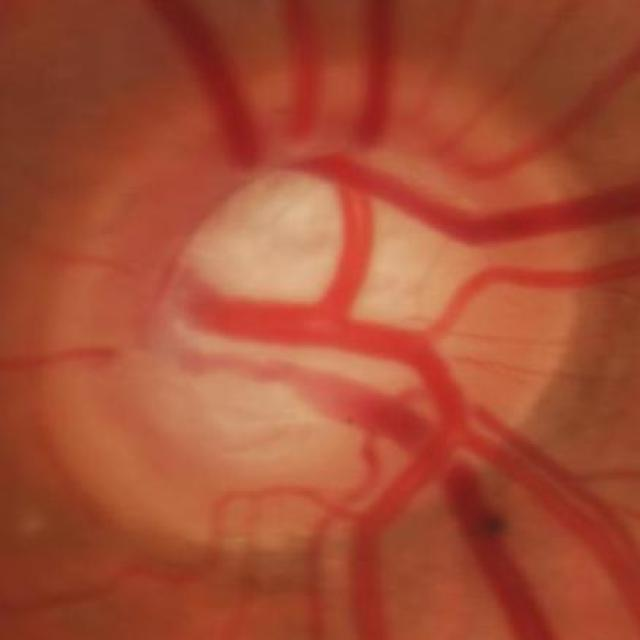OC: (146, 154, 488, 470)
OD: (39, 43, 577, 541)
